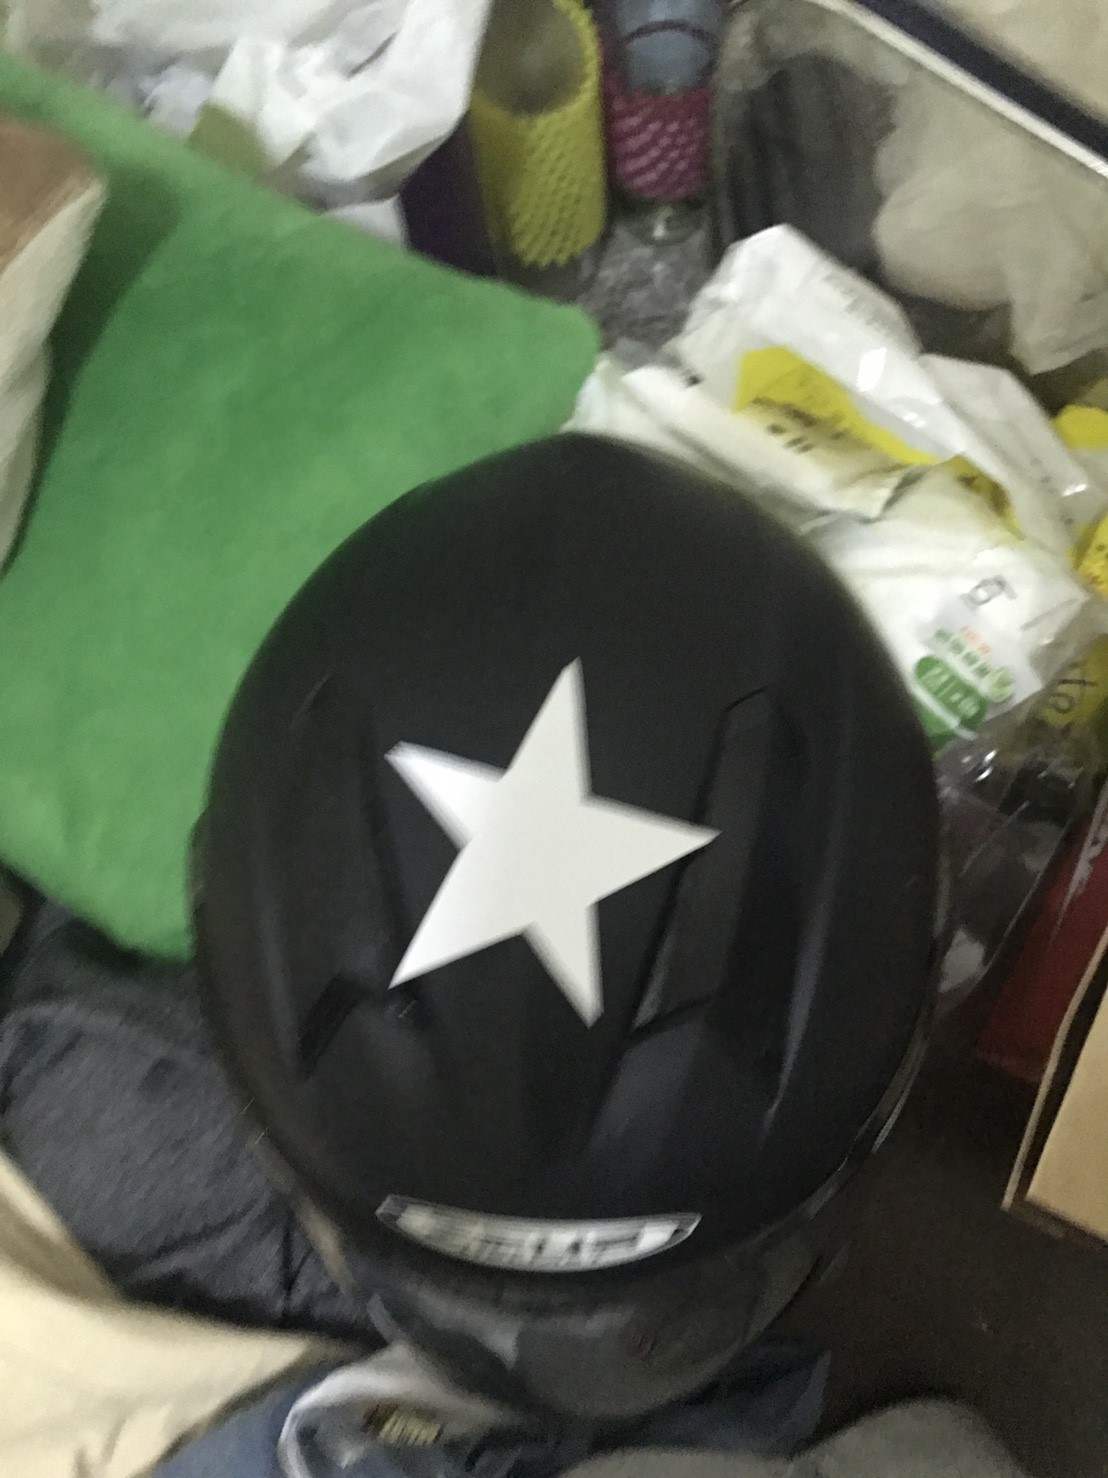star: (379, 647, 725, 1061)
